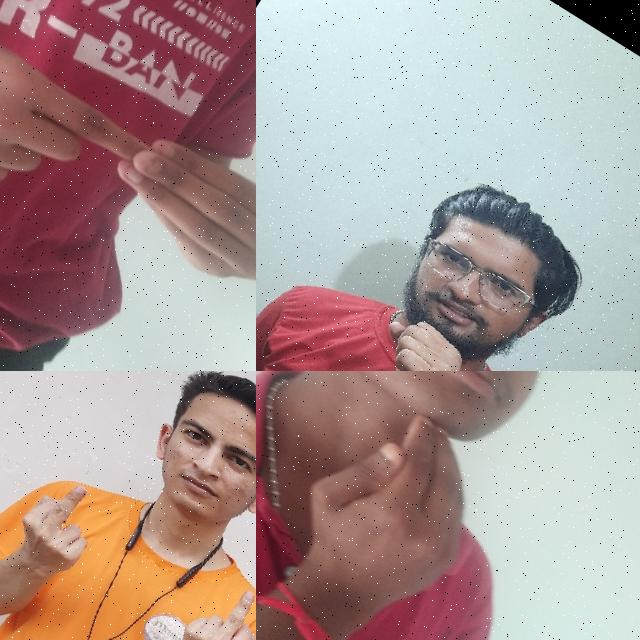Chin Flick: (256, 371, 640, 640)
Fist Mouth: (325, 163, 596, 371)
Five Fathers: (0, 0, 256, 366)
Middle Finger: (0, 455, 122, 595), (156, 562, 256, 640)
